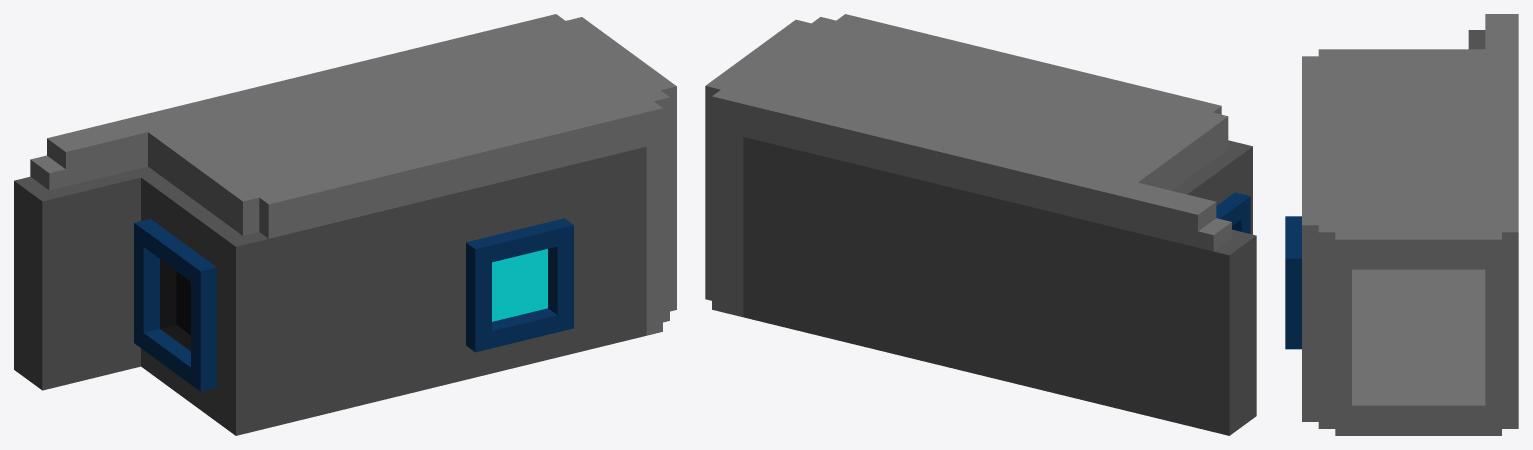
The model's file is RbtArm.obj.
3 renders of one model, left to right at view 1: azimuth 30°, elevation 25°; view 2: azimuth 150°, elevation 25°; view 3: azimuth 270°, elevation 25°, orthographic. The views are drawn at different scales.
Size of the model in its own units: 34 by 13 by 14.
Materials: 1 (1 with a texture image).
